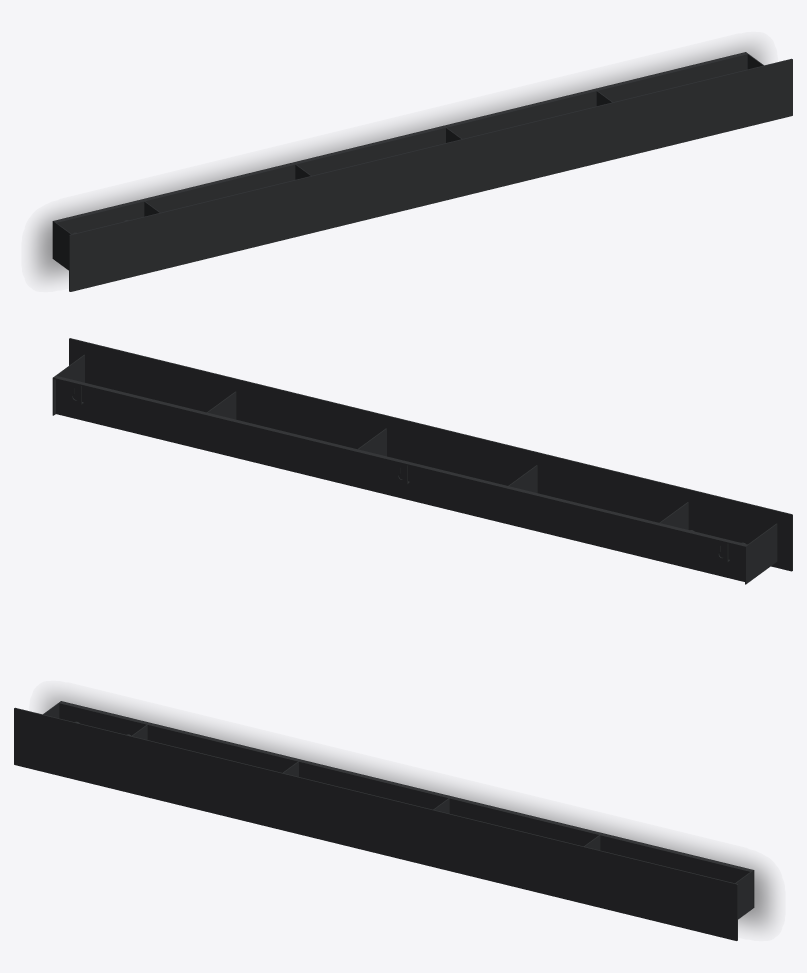
Rendered from skyline-patron.bb614b6525.ar.glb.
3 views of the same model, one above another, from view 1: azimuth 30°, elevation 25°; view 2: azimuth 150°, elevation 25°; view 3: azimuth 330°, elevation 25° (orthographic).
Parts seen in each view (by area): view 1: NAUO1, object 2; view 2: NAUO1; view 3: NAUO1, object 2.
Boxes of the visible parts, bbox=[...] form: NAUO1: bbox=[52, 52, 792, 291]; object 2: bbox=[33, 45, 765, 278]; NAUO1: bbox=[52, 338, 792, 584]; NAUO1: bbox=[14, 701, 754, 940]; object 2: bbox=[41, 694, 773, 927].
Size of the model in its own units: 1.28 by 0.17 by 0.092.
2 materials, 1 textured.
